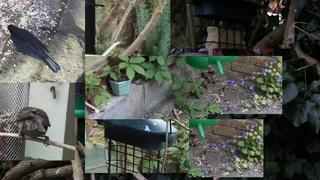blackbird: (7, 24, 61, 73)
starling: (17, 107, 51, 147)
